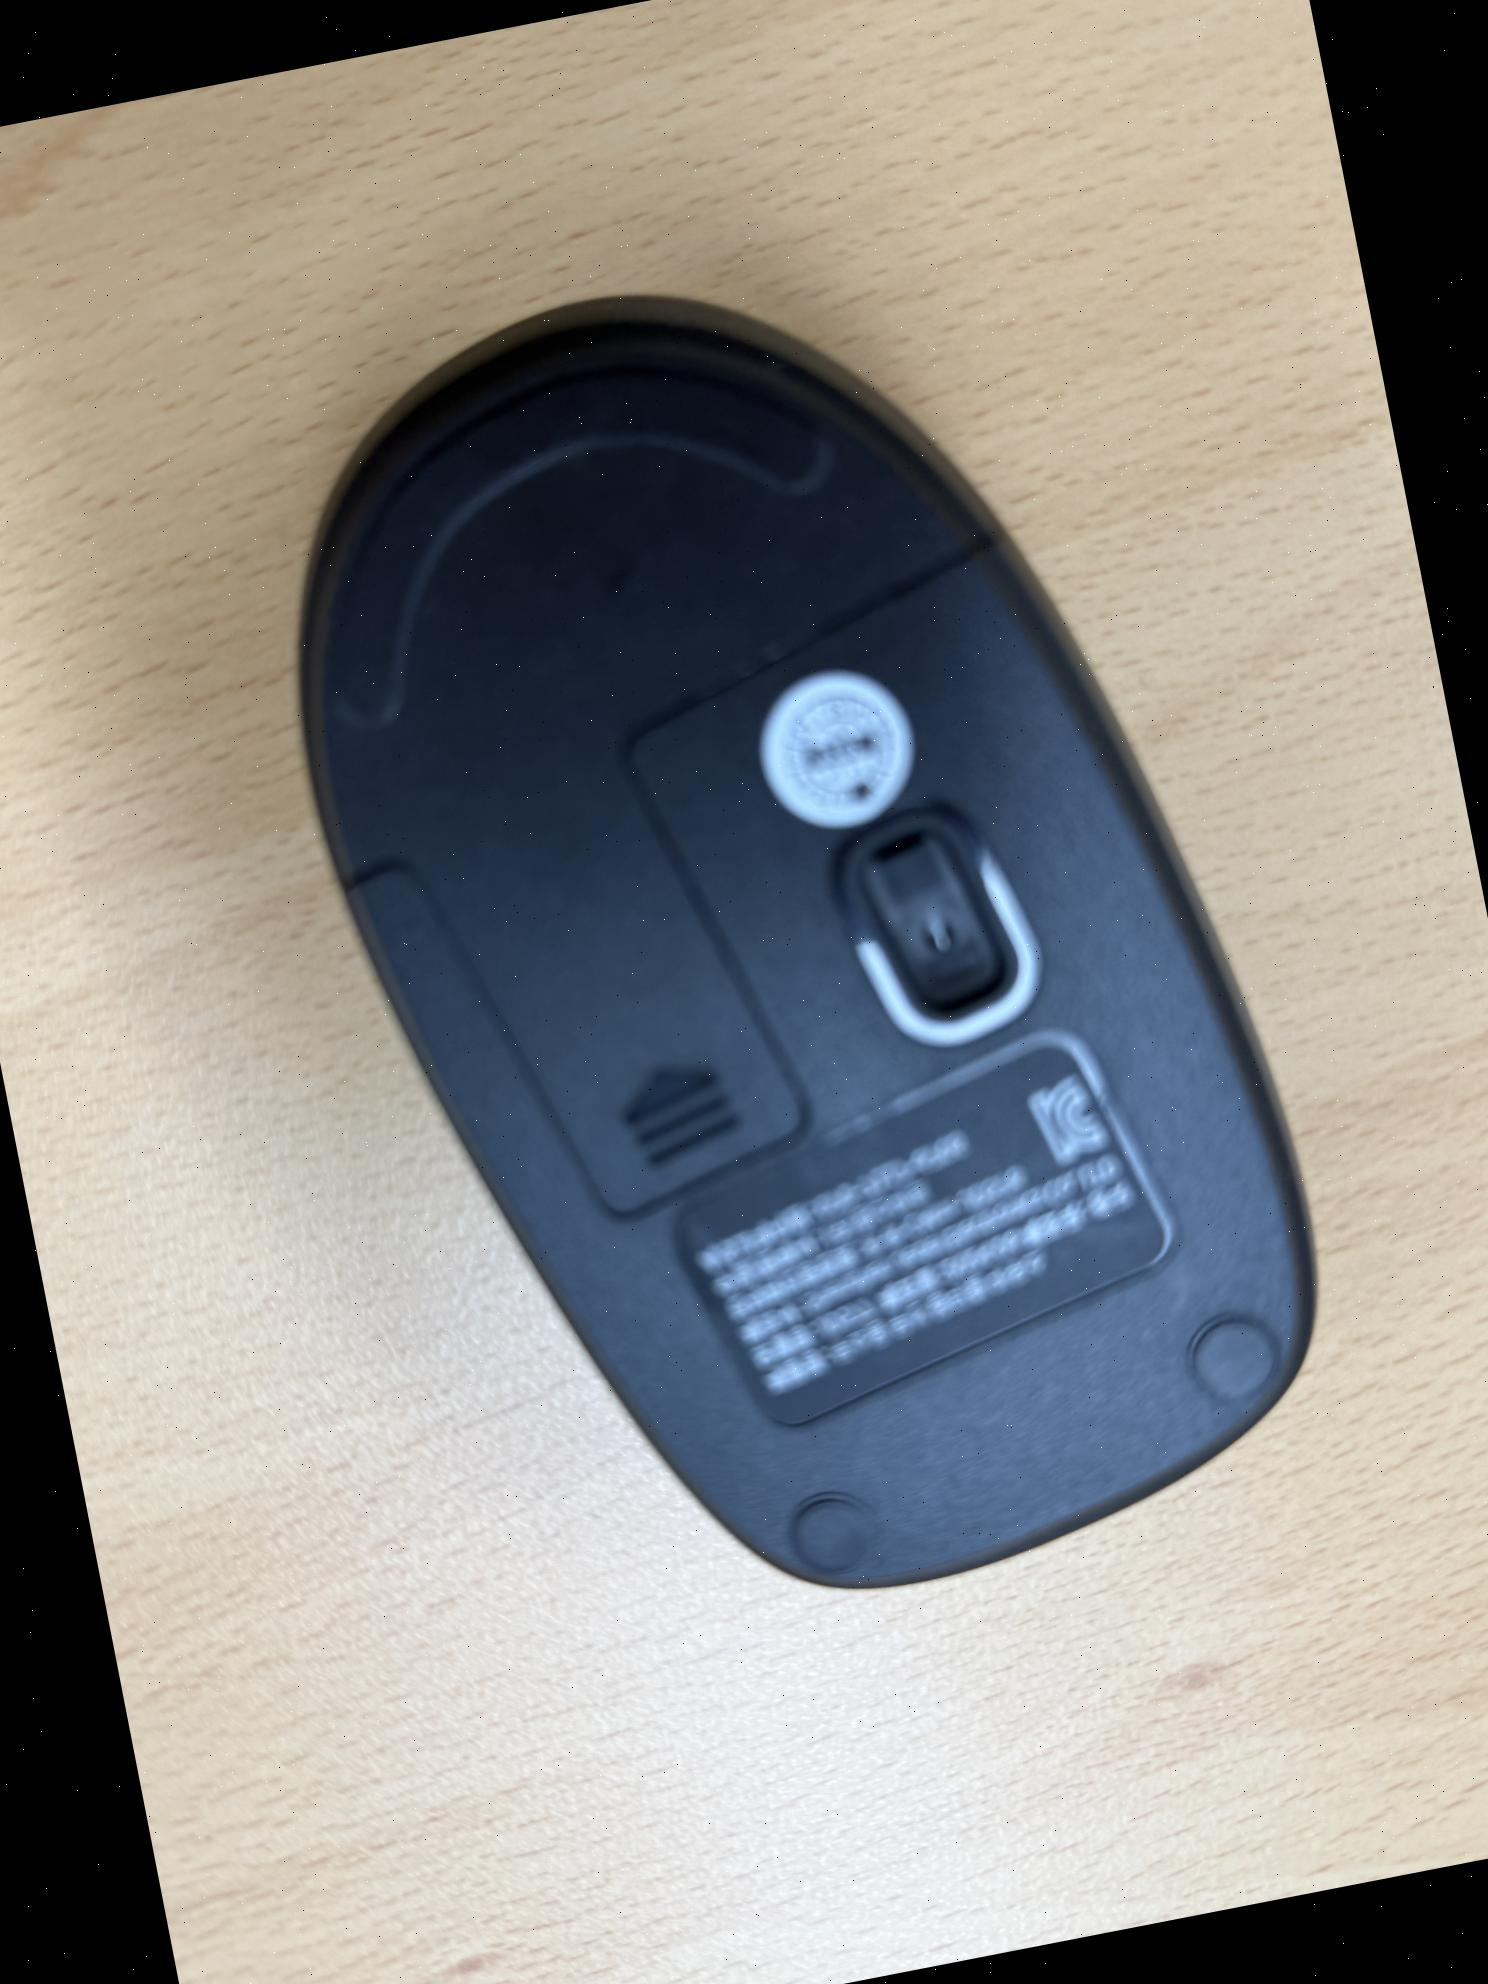back: (213, 194, 1375, 1682)
